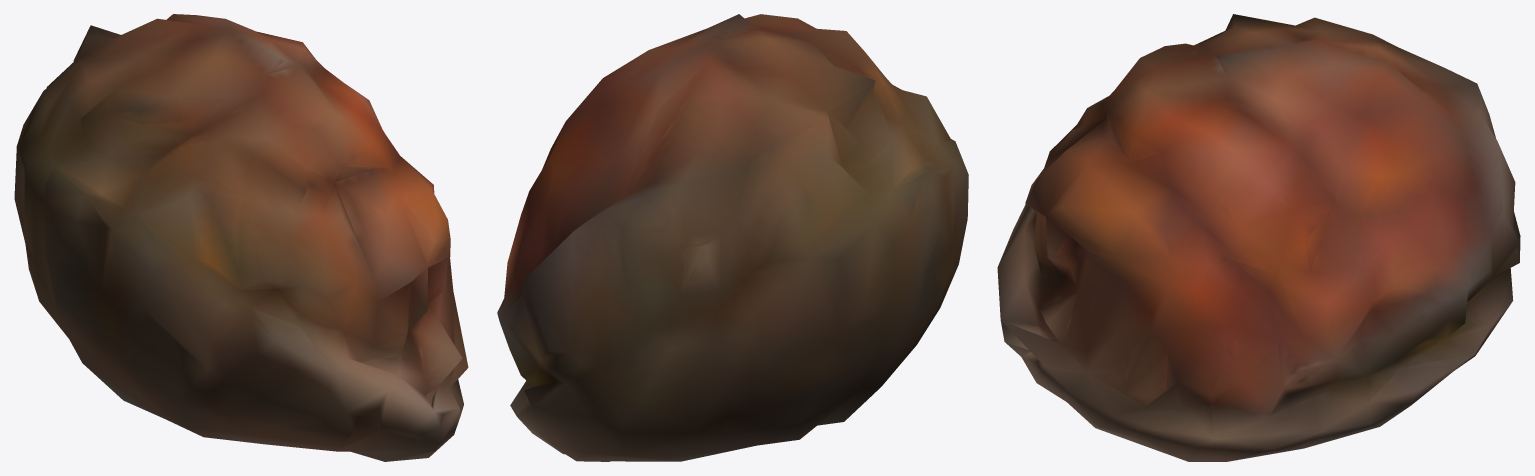
Rendered from dish_beetle_roast.glb.
The picture shows the model from 3 angles, left to right: view 1: azimuth 30°, elevation 25°; view 2: azimuth 150°, elevation 25°; view 3: azimuth 270°, elevation 25°; orthographic projection. The views are drawn at different scales.
Visible parts, largest first — view 1: model; view 2: model; view 3: model.
Boxes of the visible parts, bbox=[...] form: model: bbox=[14, 14, 468, 461]; model: bbox=[497, 14, 968, 461]; model: bbox=[997, 14, 1520, 461].
Size of the model in its own units: 0.2907 by 0.3001 by 0.3963.
1 material, 1 textured.
